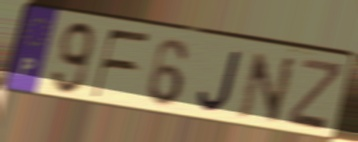6: (145, 36, 192, 110)
9: (49, 19, 97, 98)
F: (89, 27, 154, 101)
J: (196, 48, 245, 114)
N: (236, 50, 300, 126)
Z: (284, 56, 346, 135)
